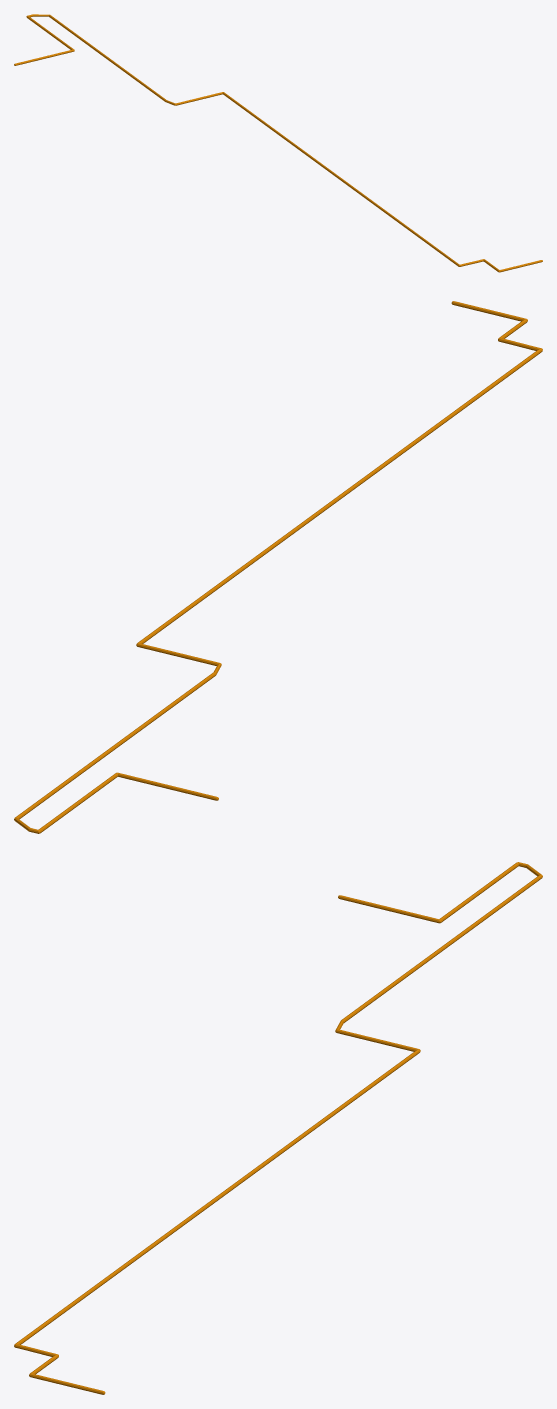
The picture shows the model from 3 angles, top to bottom: view 1: azimuth 30°, elevation 25°; view 2: azimuth 150°, elevation 25°; view 3: azimuth 330°, elevation 25°; orthographic projection. The views are drawn at different scales.
Bounding box in the file's own units: 1845 × 20 × 6192.
